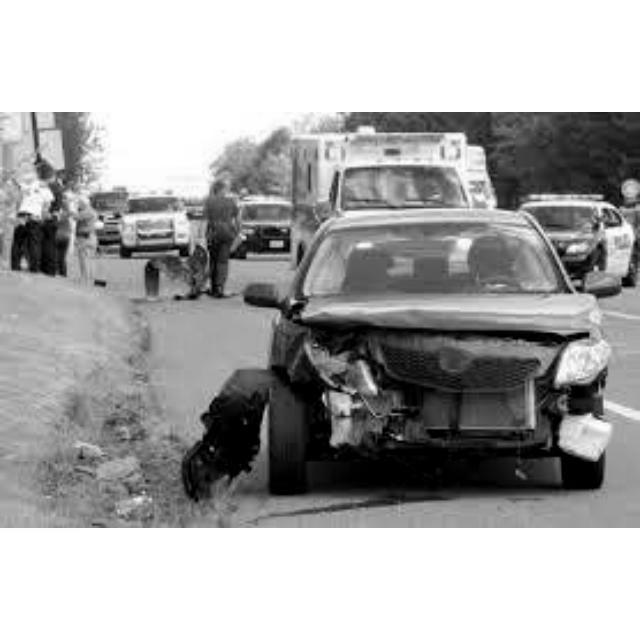Headlight-damage: (302, 338, 371, 400)
bonnet-dent: (298, 283, 599, 340)
front-bumper-dent: (385, 342, 525, 434)
